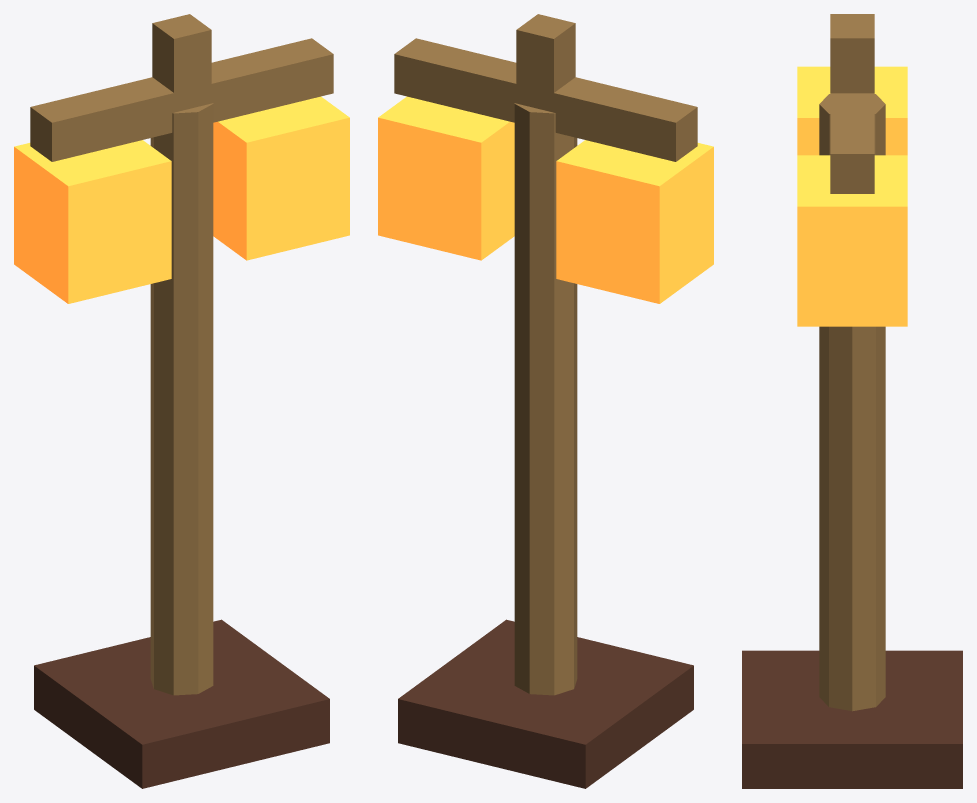
File: lantern_gate.glb
The picture shows the model from 3 angles, left to right: view 1: azimuth 30°, elevation 25°; view 2: azimuth 150°, elevation 25°; view 3: azimuth 270°, elevation 25°; orthographic projection.
Parts seen in each view (by area): view 1: GatePost, GateBase, LeftLantern, RightLantern, GateCrossArm, GateFinial; view 2: GatePost, GateBase, LeftLantern, RightLantern, GateCrossArm, GateFinial; view 3: GateBase, GatePost, RightLantern, LeftLantern, GateCrossArm, GateFinial.
Boxes of the visible parts, x1,y1,x2,y2 form: GatePost: (150,103,213,695); GateBase: (34,619,329,788); LeftLantern: (14,140,171,303); RightLantern: (213,96,349,260); GateCrossArm: (30,38,333,161); GateFinial: (152,14,211,111); GatePost: (514,103,577,695); GateBase: (398,619,693,788); LeftLantern: (556,140,713,303); RightLantern: (378,96,514,260); GateCrossArm: (394,38,697,161); GateFinial: (516,14,575,105); GateBase: (742,650,962,788); GatePost: (819,94,885,711); RightLantern: (797,155,907,326); LeftLantern: (797,66,907,155); GateCrossArm: (830,14,874,193); GateFinial: (830,19,874,93).
Size of what is drawn, in the model's own units: 1.2 by 2.85 by 0.8.
